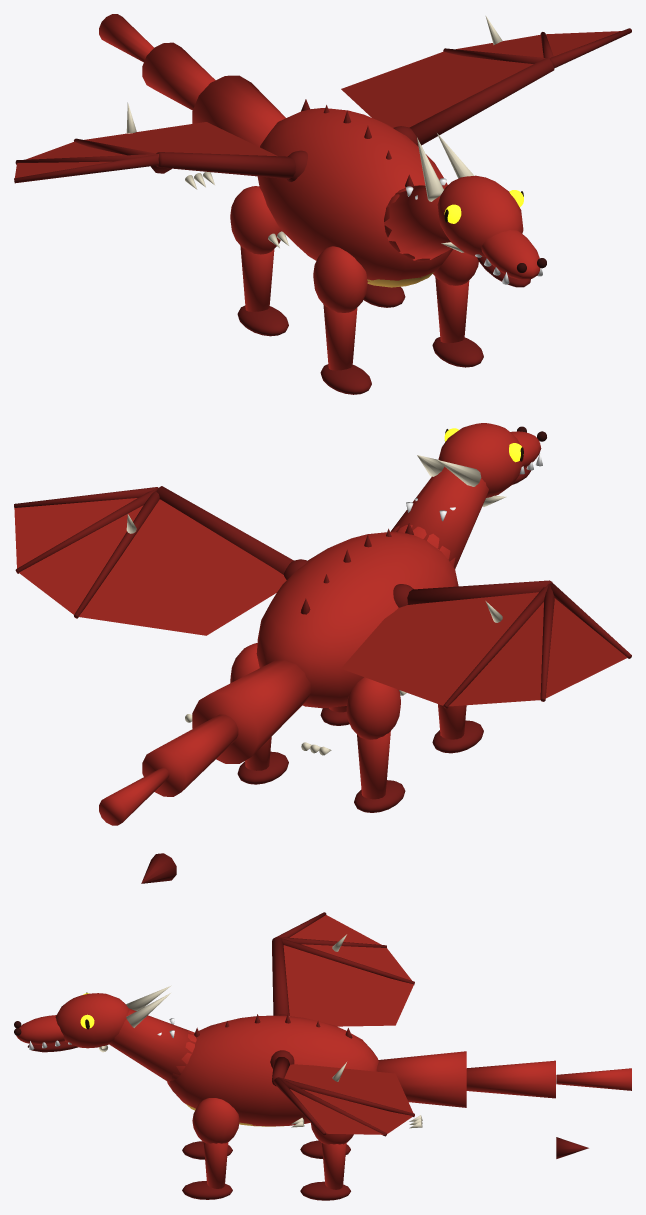
File: dragon.glb
3 views of the same model, one above another, from view 1: azimuth 30°, elevation 25°; view 2: azimuth 150°, elevation 25°; view 3: azimuth 270°, elevation 25° (orthographic). The views are drawn at different scales.
Visible parts, largest first — view 1: torso, wing_R_mem, wing_L_mem, head_m, tail1_m, neck_m, tail2_m, wing_R_arm, leg_FL_thigh, wing_L_arm, leg_BL_thigh, snout (+14 smaller); view 2: wing_R_mem, wing_L_mem, torso, tail1_m, neck_m, tail2_m, head_m, leg_BL_thigh, wing_R_arm, wing_L_arm, tail3_m, leg_BL_m (+12 smaller); view 3: torso, wing_L_mem, wing_R_mem, tail1_m, neck_m, head_m, tail2_m, leg_FR_thigh, tail3_m, wing_L_arm, snout, leg_FR_m (+8 smaller).
Part boxes in pixels (x1,y1,x2,y2): torso: (257, 108, 452, 281); wing_R_mem: (341, 31, 621, 127); wing_L_mem: (15, 122, 277, 178); head_m: (437, 175, 523, 257); tail1_m: (192, 75, 285, 147); neck_m: (384, 185, 451, 260); tail2_m: (142, 42, 215, 110); wing_R_arm: (409, 57, 554, 145); leg_FL_thigh: (313, 246, 367, 312); wing_L_arm: (156, 152, 295, 179); leg_BL_thigh: (230, 186, 282, 254); snout: (481, 230, 540, 279); wing_R_mem: (14, 498, 286, 635); wing_L_mem: (341, 592, 627, 706); torso: (256, 531, 458, 708); tail1_m: (192, 659, 311, 763); neck_m: (390, 466, 488, 568); tail2_m: (142, 714, 238, 796); head_m: (438, 423, 523, 497); leg_BL_thigh: (346, 677, 400, 739); wing_R_arm: (156, 486, 293, 574); wing_L_arm: (407, 580, 552, 604); tail3_m: (99, 767, 169, 825); leg_BL_m: (357, 731, 390, 799); torso: (167, 1015, 378, 1126); wing_L_mem: (283, 915, 413, 1026); wing_R_mem: (284, 1064, 413, 1134); tail1_m: (376, 1051, 466, 1107); neck_m: (109, 1008, 195, 1082); head_m: (55, 993, 129, 1048); tail2_m: (466, 1060, 555, 1098); leg_FR_thigh: (192, 1098, 239, 1143); tail3_m: (556, 1068, 631, 1090); wing_L_arm: (272, 937, 289, 1016); snout: (16, 1015, 64, 1044); leg_FR_m: (203, 1142, 228, 1188).
Size of the model in its own units: 5.52 by 2.2 by 6.54.
